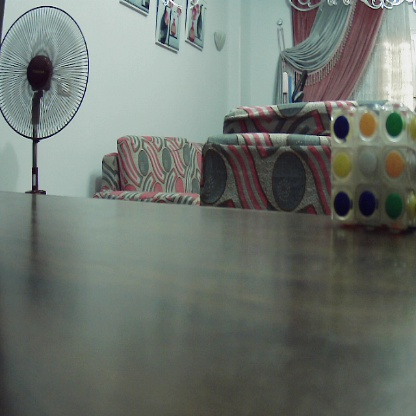Rubix Cube: (330, 109, 415, 229)
